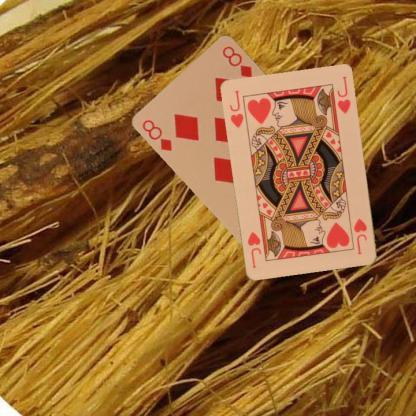8d: (140, 116, 174, 152)
Jh: (227, 88, 250, 132), (351, 216, 369, 256)
